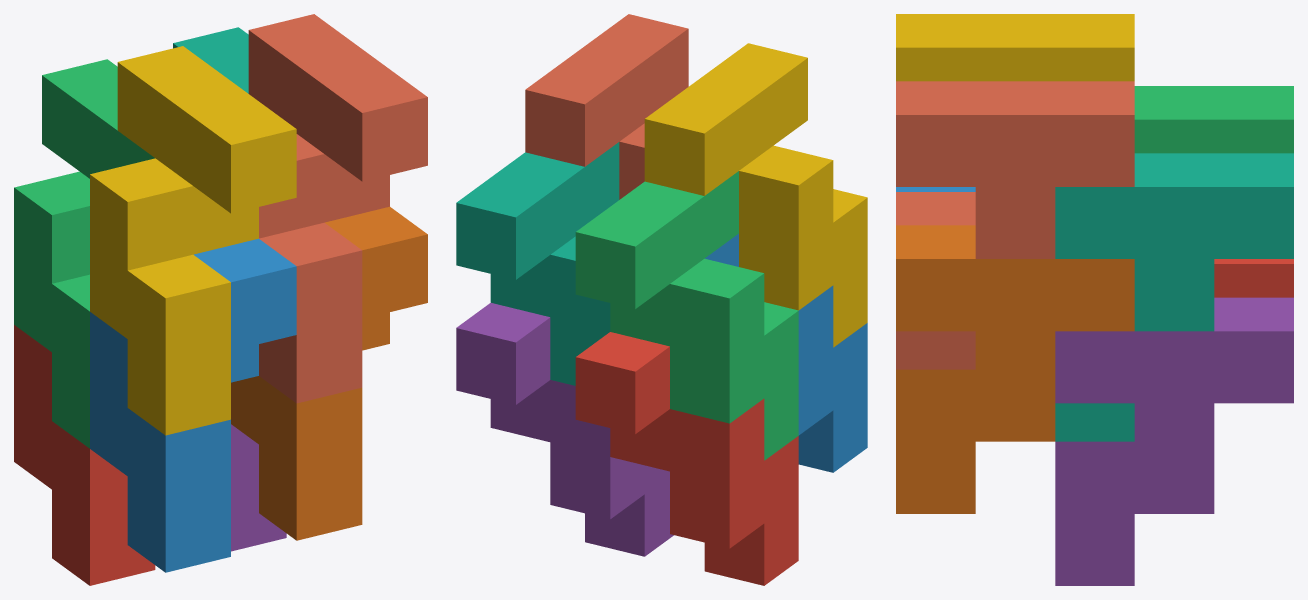
File: tiling.obj
The picture shows the model from 3 angles, left to right: view 1: azimuth 30°, elevation 25°; view 2: azimuth 150°, elevation 25°; view 3: azimuth 270°, elevation 25°; orthographic projection. The views are drawn at different scales.
Parts seen in each view (by area): view 1: copy_1_domain_4, copy_1_domain_8, copy_1_domain_2, copy_1_domain_3, copy_1_domain_6, copy_1_domain_1, copy_1_domain_5, copy_1_domain_7; view 2: copy_1_domain_3, copy_1_domain_4, copy_1_domain_1, copy_1_domain_5, copy_1_domain_7, copy_1_domain_8, copy_1_domain_2; view 3: copy_1_domain_5, copy_1_domain_6, copy_1_domain_8, copy_1_domain_7, copy_1_domain_4, copy_1_domain_3, copy_1_domain_1.
Part boxes in pixels (<box>): copy_1_domain_4: <box>90,46,296,435</box>; copy_1_domain_8: <box>248,14,427,403</box>; copy_1_domain_2: <box>90,238,296,572</box>; copy_1_domain_3: <box>14,59,154,448</box>; copy_1_domain_6: <box>231,206,427,540</box>; copy_1_domain_1: <box>14,325,155,585</box>; copy_1_domain_5: <box>231,424,286,551</box>; copy_1_domain_7: <box>173,27,248,93</box>; copy_1_domain_3: <box>575,171,798,460</box>; copy_1_domain_4: <box>644,43,867,347</box>; copy_1_domain_1: <box>575,332,798,585</box>; copy_1_domain_5: <box>456,303,673,556</box>; copy_1_domain_7: <box>456,142,619,385</box>; copy_1_domain_8: <box>525,14,688,199</box>; copy_1_domain_2: <box>705,233,867,472</box>; copy_1_domain_5: <box>1055,297,1293,585</box>; copy_1_domain_6: <box>896,225,1134,513</box>; copy_1_domain_8: <box>896,81,1134,369</box>; copy_1_domain_7: <box>1055,153,1293,441</box>; copy_1_domain_4: <box>896,14,1134,81</box>; copy_1_domain_3: <box>1134,86,1293,153</box>; copy_1_domain_1: <box>1214,259,1293,297</box>.
Bounding box in the file's own units: 4 × 7 × 5.
